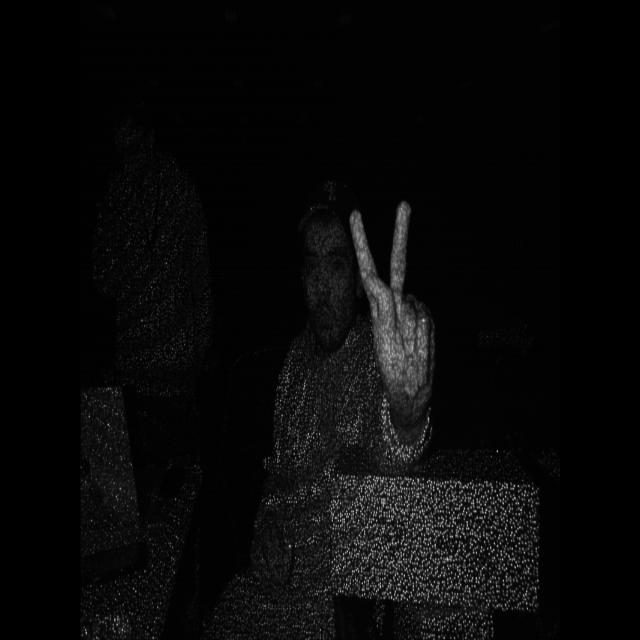V: (340, 169, 447, 448)
